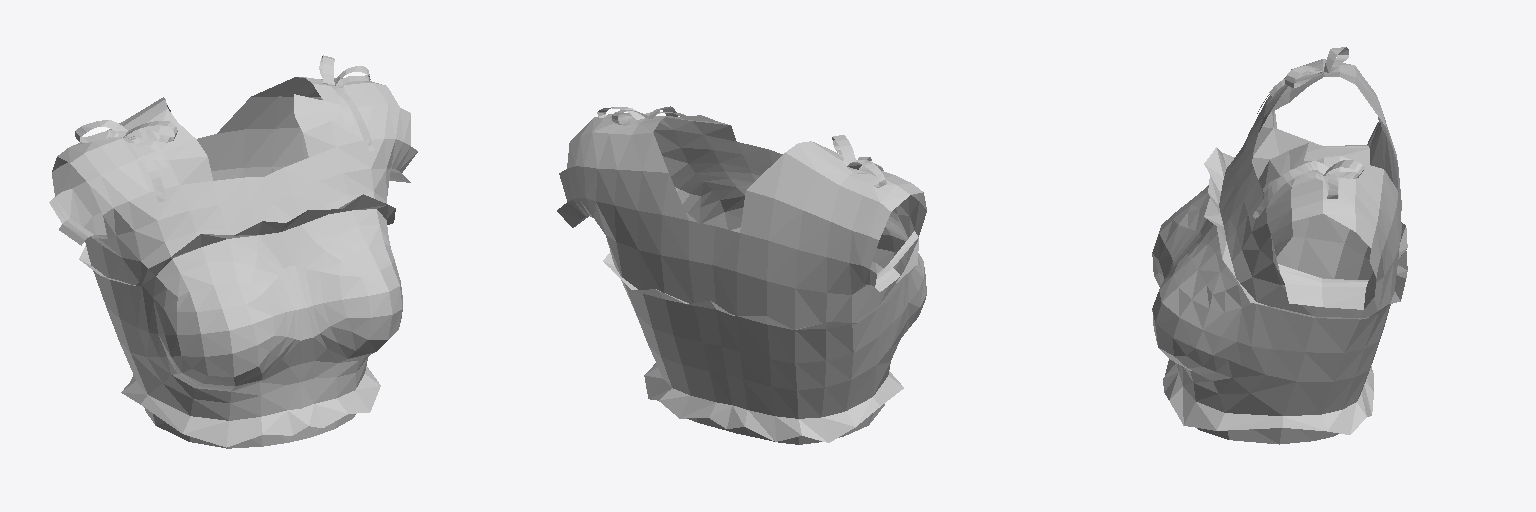
Rendered from top.obj.
3 views of the same model, side by side, from view 1: azimuth 30°, elevation 25°; view 2: azimuth 150°, elevation 25°; view 3: azimuth 270°, elevation 25° (orthographic).
Bounding box in the file's own units: 37.35 × 32.5 × 25.15.